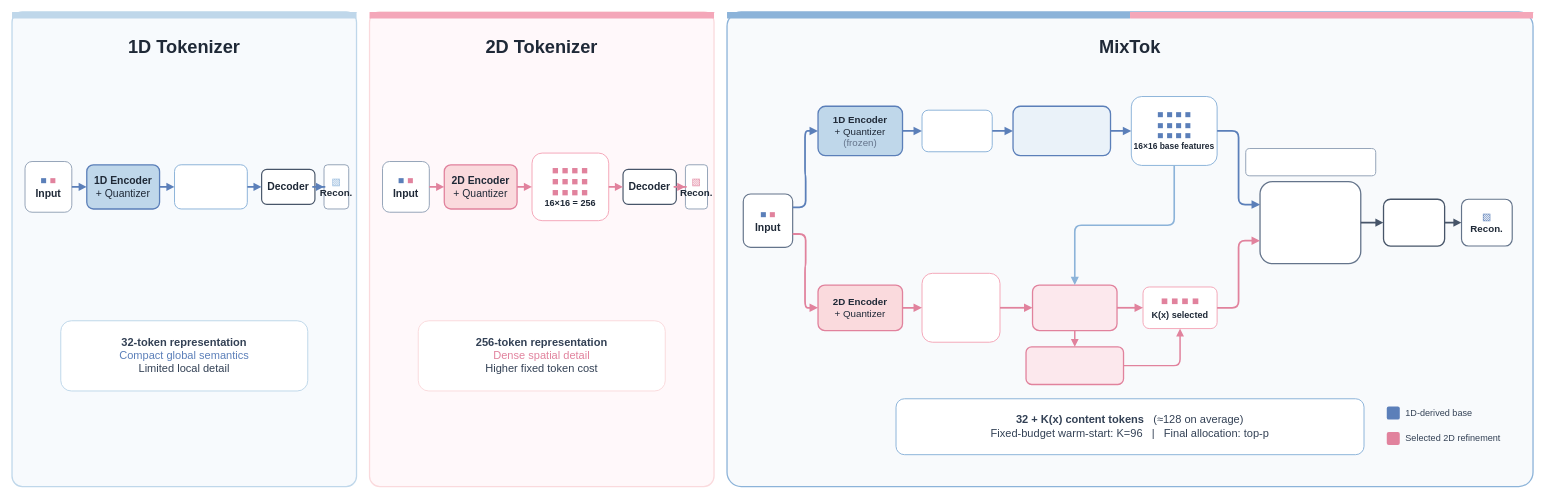
Some shapes in this 1544 by 498 pixel diagram are drawn without their labels. Here are the shapes that lost their labels. From the top down, the box of each, then its label:
(921, 109, 992, 152): ■ ■ ■ ■ 32 tokens
(1012, 105, 1111, 156): Spatial Expansion + Feature Adapter
(1245, 148, 1376, 176): Replace selected grid locations
(174, 164, 248, 209): ■ ■ ■ ■ 32 1D tokens
(1259, 181, 1361, 264): ■ ■ ■ ■ ■ ■ ■ ■ ■ ■ ■ ■ Mixed 16×16 features (256−K) base + K refined
(1383, 198, 1445, 246): Shared Decoder
(921, 273, 1000, 342): ■ ■ ■ ■ ■ ■ ■ ■ ■ ■ ■ ■ 256 candidates
(1032, 284, 1117, 331): Grid Scorer Location ranking
(1025, 346, 1124, 385): Budget Controller Top-p → K(x) (warm-start: K=96)
